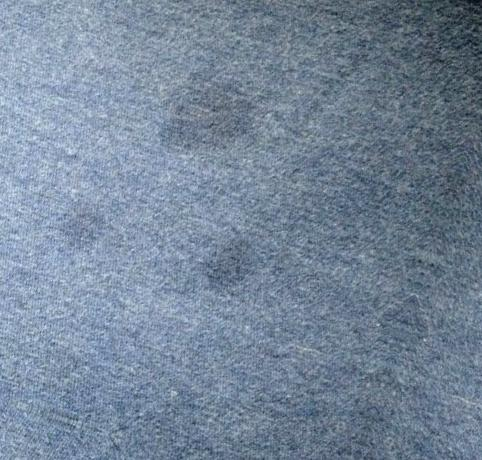stain: (148, 69, 260, 155), (195, 231, 263, 298), (55, 206, 113, 253)
